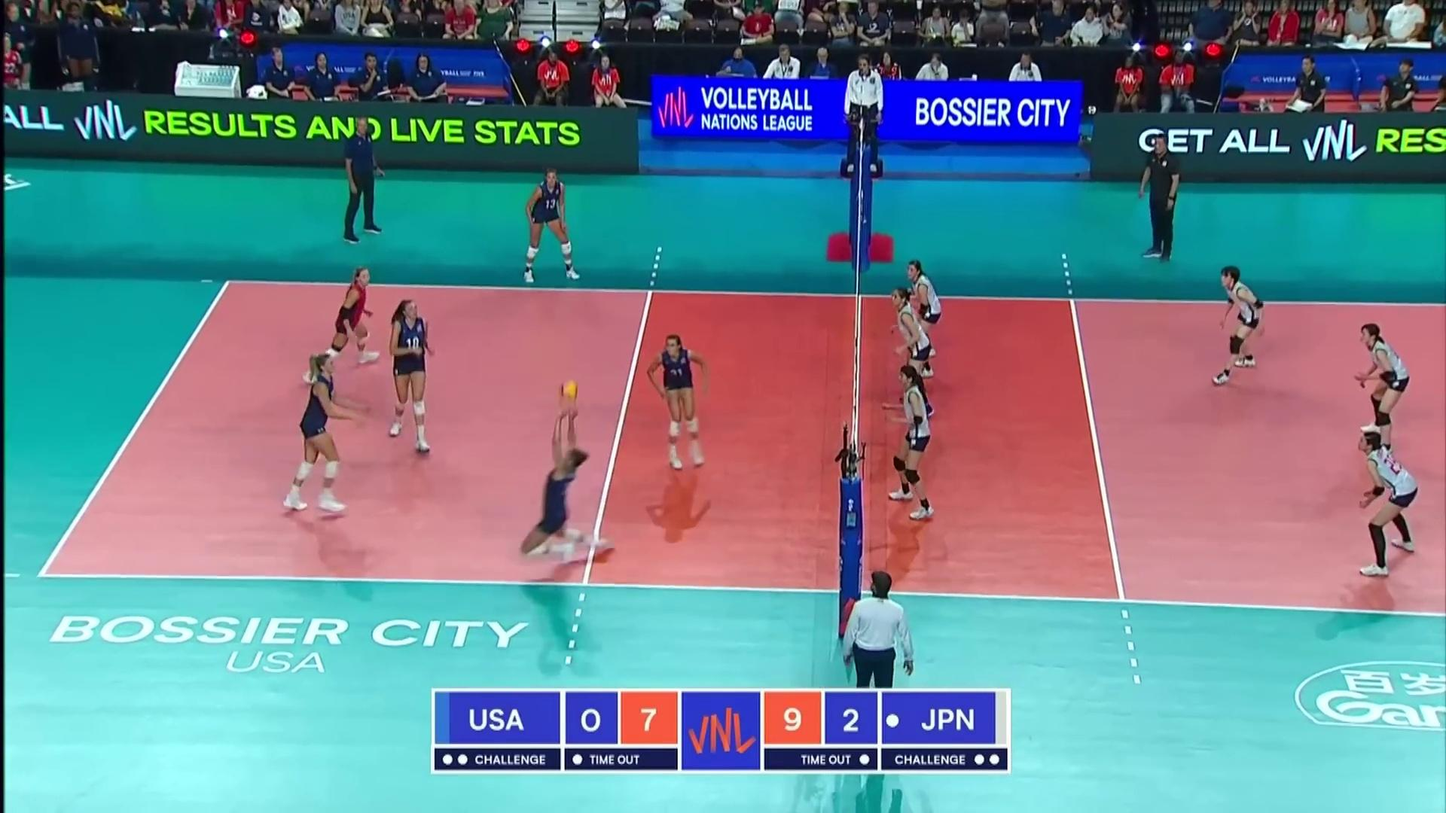player: (523, 410, 617, 567), (286, 353, 365, 515), (645, 333, 712, 468), (1358, 432, 1420, 575), (304, 268, 383, 379), (883, 365, 937, 520), (387, 300, 433, 455), (522, 166, 580, 283), (1359, 324, 1409, 458), (1211, 267, 1266, 383), (889, 288, 934, 420), (904, 259, 941, 374)
refree: (839, 575, 914, 688), (843, 54, 882, 170)
